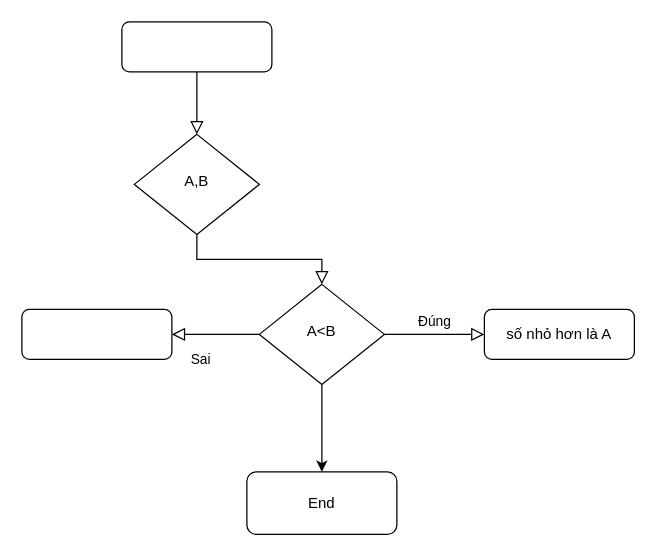
Image size: 656x556. Some labels were removed from this diagram. Each missing label, with the centre of its shape:
Start: [196,46]
số nhỏ hơn là B: [96,333]
